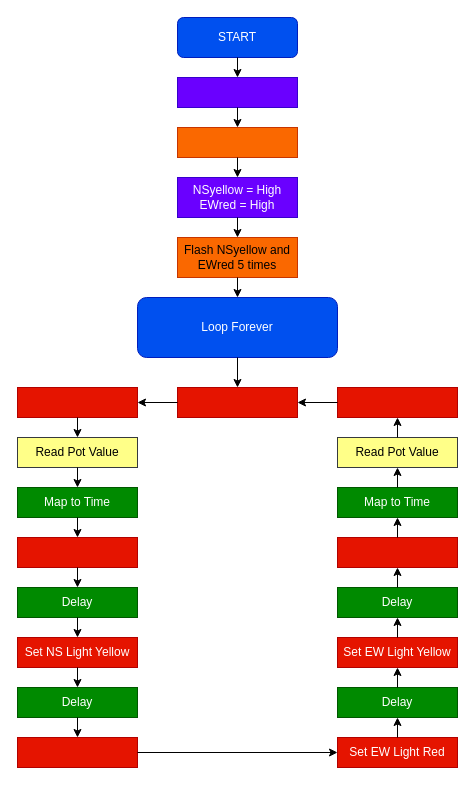
The diagram is 475 pixels wide and 785 high, and some of its shapes have lost their labels. The centre of each missing label's shape, as x and y in pixels:
"All Red" belongs at pixel 237 402.
"East-West Sequence" belongs at pixel 397 402.
"Initialize Pins (2-9)" belongs at pixel 237 92.
"North-South Sequence" belongs at pixel 77 402.
"Set EW Light Green" belongs at pixel 397 552.
"Set NS Light Green" belongs at pixel 77 552.
"Set NS Light Red" belongs at pixel 77 752.
"Set State" belongs at pixel 237 142.
